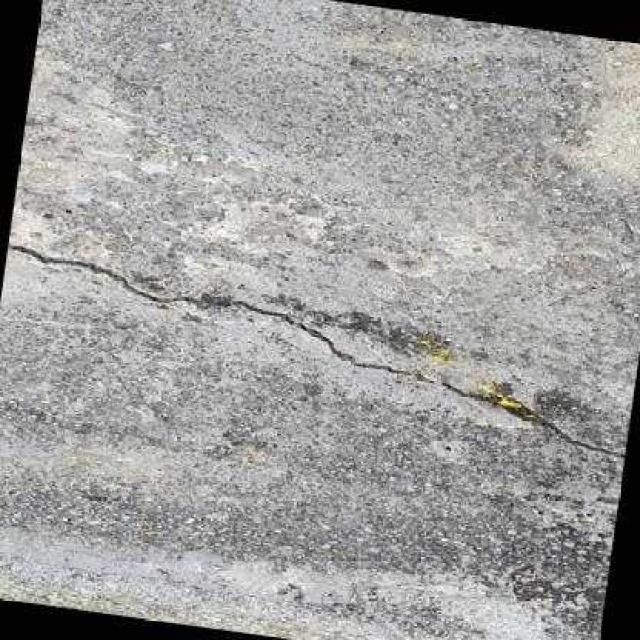D00: (7, 240, 625, 457)
